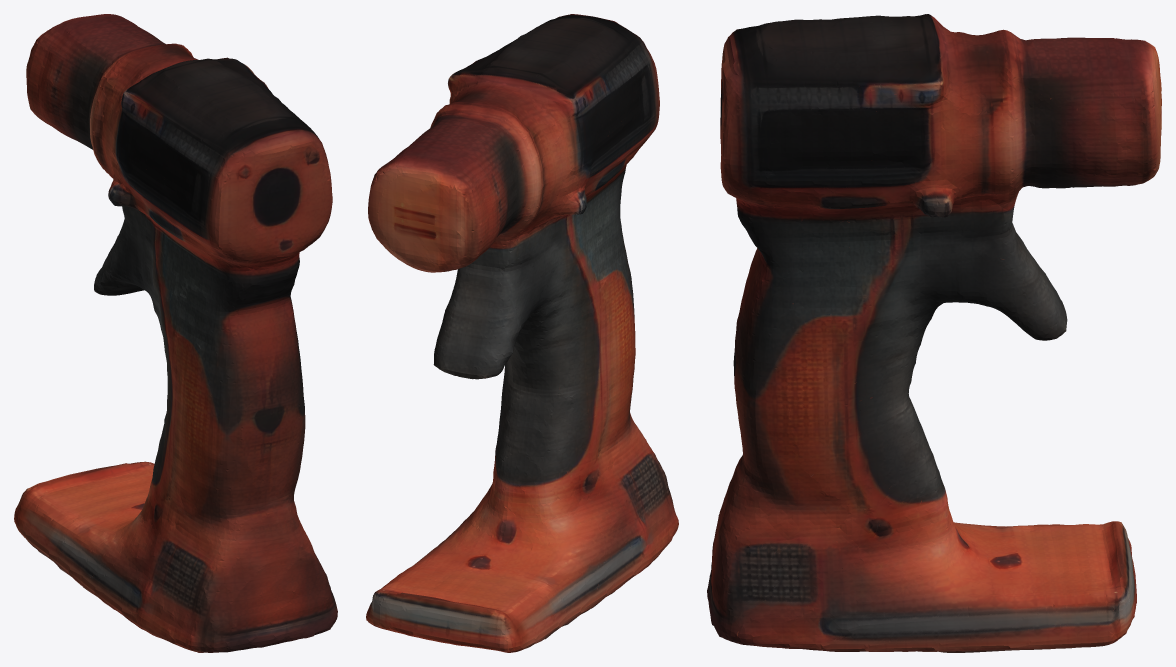
File: instantmesh_recon.glb
3 renders of one model, left to right at view 1: azimuth 30°, elevation 25°; view 2: azimuth 150°, elevation 25°; view 3: azimuth 270°, elevation 25°, orthographic. The views are drawn at different scales.
Parts seen in each view (by area): view 1: world; view 2: world; view 3: world.
Boxes of the visible parts, x1=… form: world: x1=14, y1=14, x2=337, y2=652; world: x1=366, y1=14, x2=678, y2=652; world: x1=707, y1=14, x2=1161, y2=652.
Size of the model in its own units: 0.0671 by 0.1978 by 0.14.
Materials: 1 (1 with a texture image).
